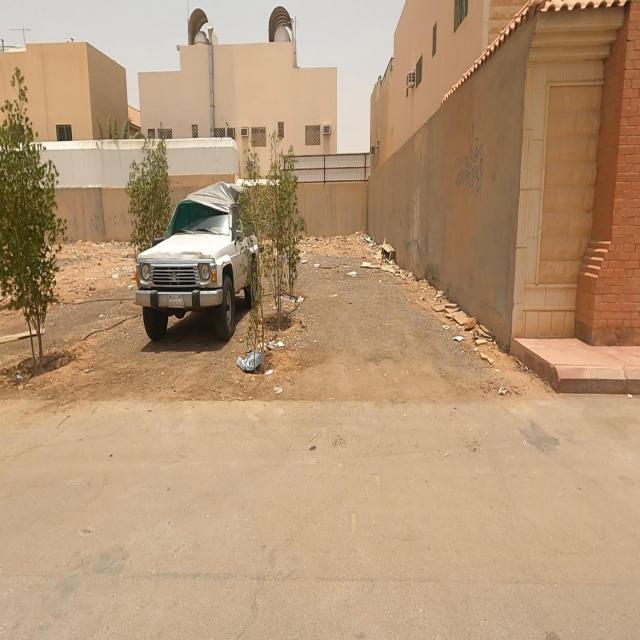Graffiti: (456, 120, 485, 200), (108, 213, 133, 228), (90, 214, 102, 232)
